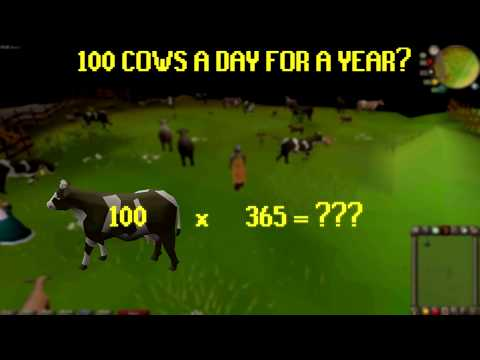rs_cow: (49, 179, 182, 275)
